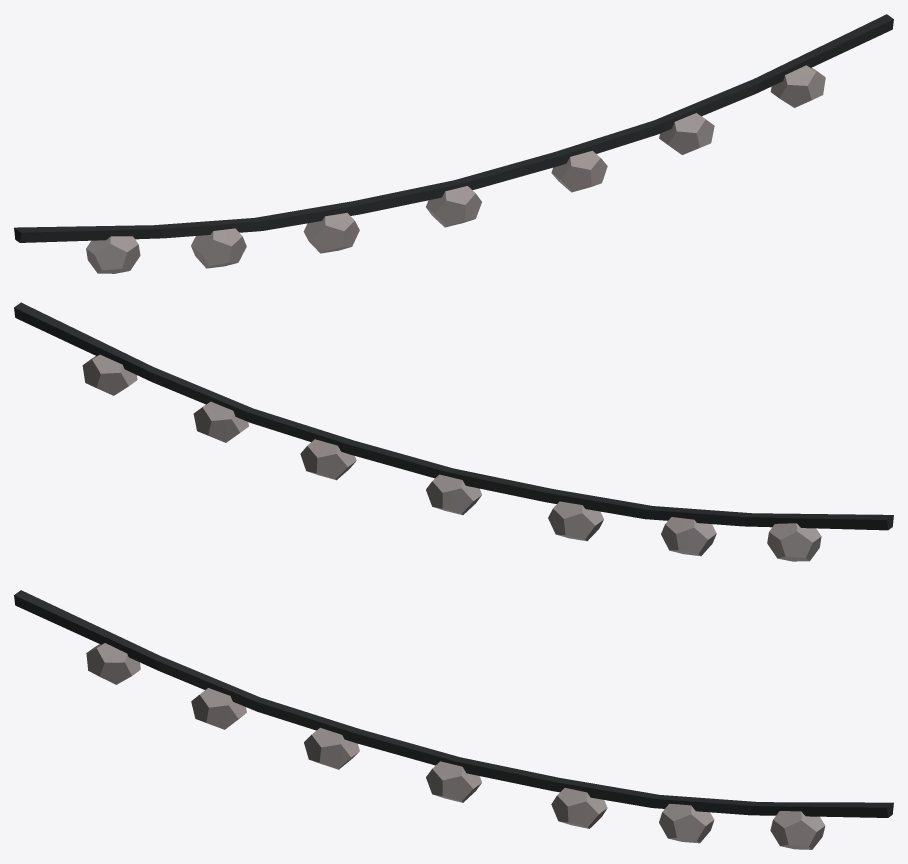
File: SM_Prop_Light_01.glb
3 renders of one model, top to bottom at view 1: azimuth 30°, elevation 25°; view 2: azimuth 150°, elevation 25°; view 3: azimuth 330°, elevation 25°, orthographic.
Parts seen in each view (by area): view 1: SM_Prop_Light_01; view 2: SM_Prop_Light_01; view 3: SM_Prop_Light_01.
Part boxes in pixels (left/top/right/bottom): SM_Prop_Light_01: left=14, top=14, right=893, bottom=273; SM_Prop_Light_01: left=14, top=302, right=893, bottom=561; SM_Prop_Light_01: left=14, top=590, right=893, bottom=849.
Size of the model in its own units: 249 by 27.76 by 11.3.
1 material, 1 textured.
